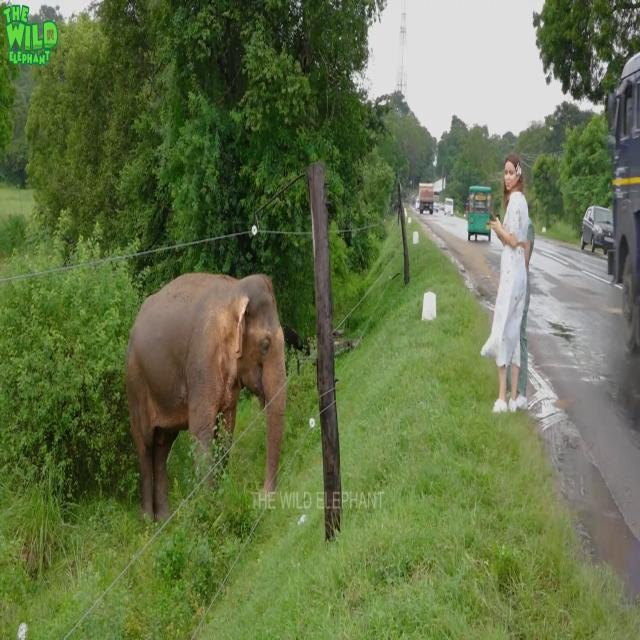Elephant: (124, 270, 287, 526)
person: (480, 153, 530, 413)
